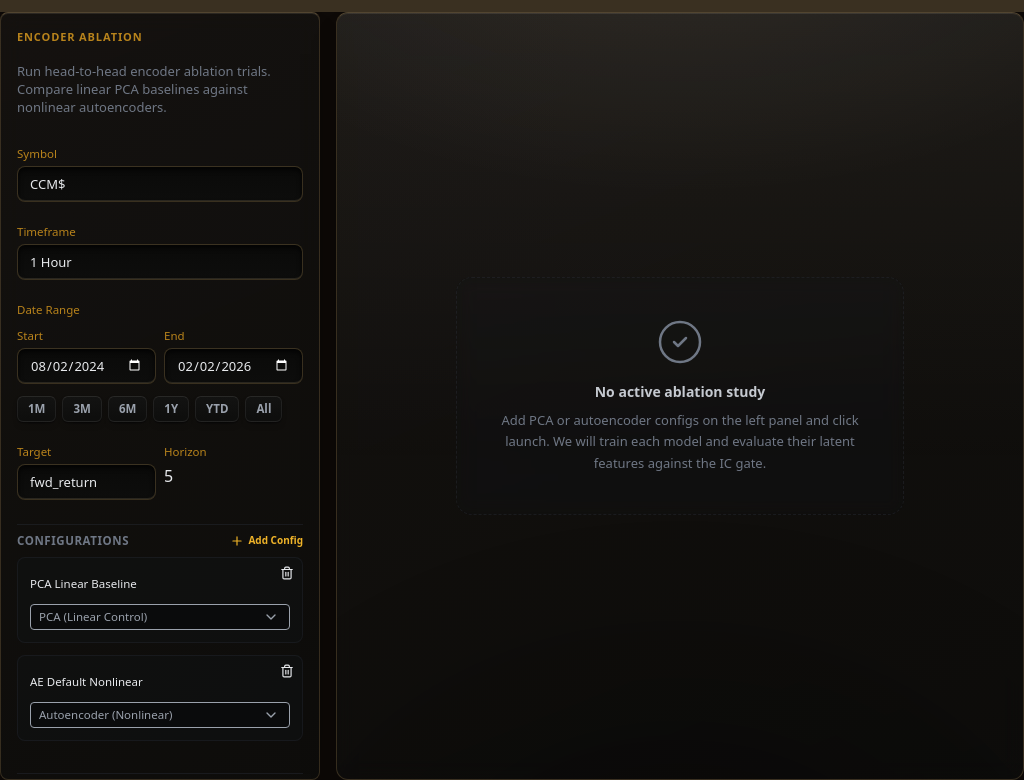
Scenario: EncoderAblationPanel › renders the panel error state for a failed job
Step 1. Replace the text in the field labelled "Symbol" with "FAIL" → x=160, y=184, box [17, 166, 303, 202]
(page scrolled)
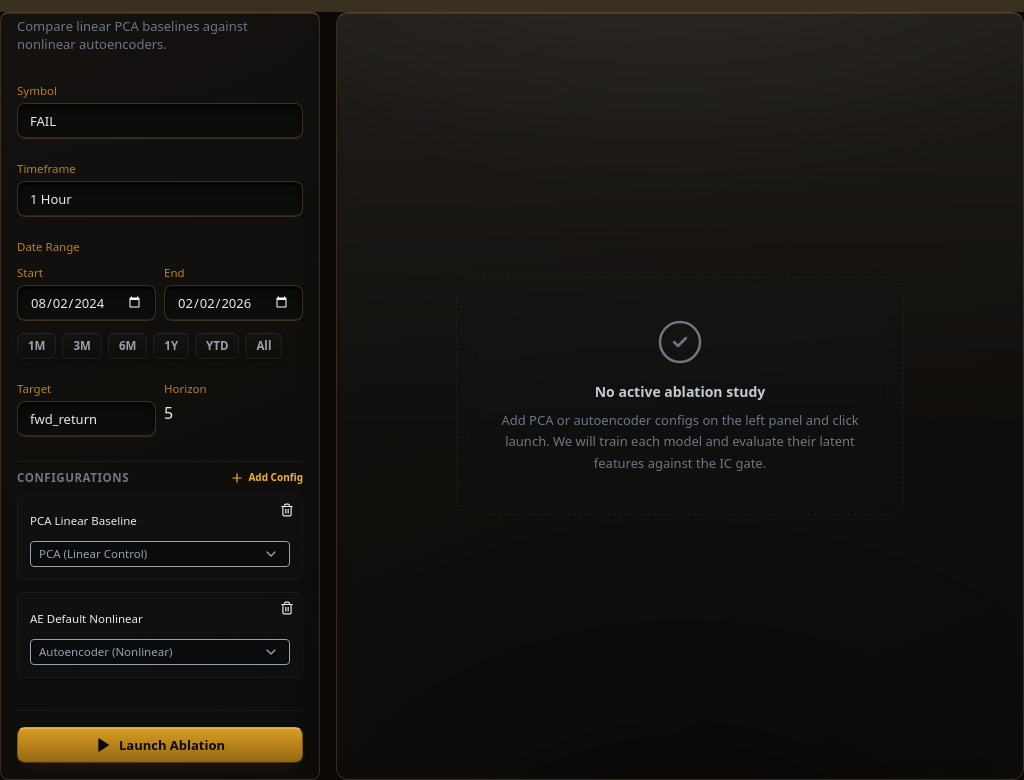
Step 2. Click the button with test id "ablation-submit-btn" → x=160, y=744, box [17, 726, 303, 762]
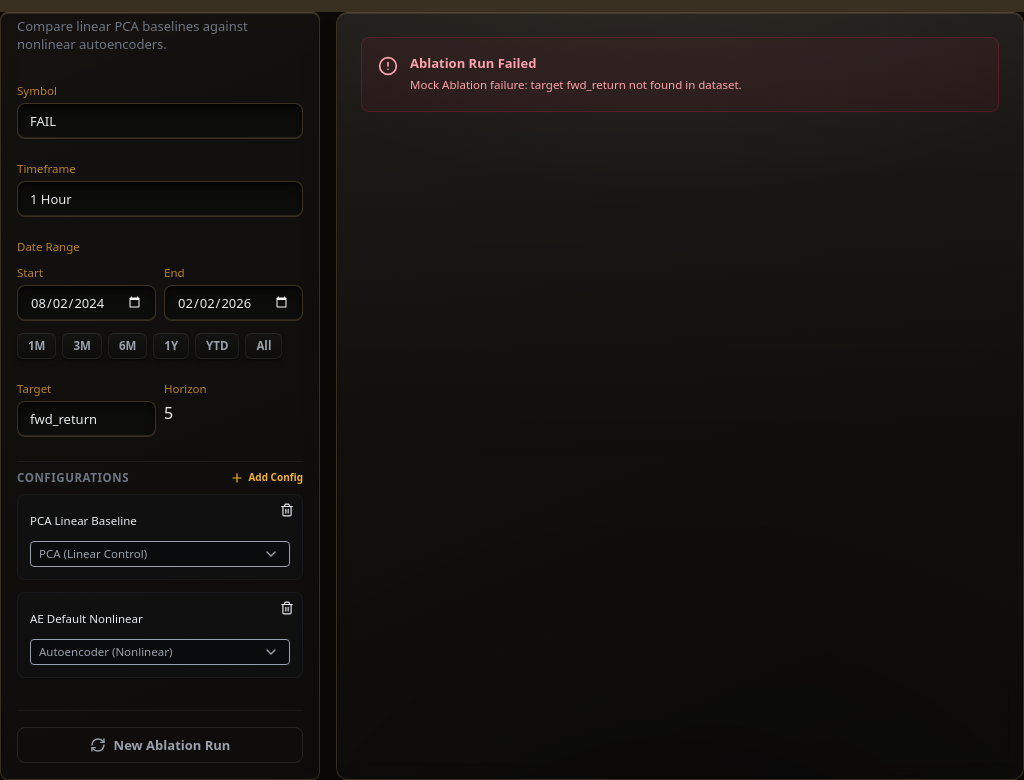
Now the element with test id "ablation-error-state" is shown, box [361, 37, 999, 112]
Now the element with test id "ablation-error-state" shows "Mock Ablation failure", box [410, 77, 742, 92]
Now the element with test id "ablation-empty-state" is gone
